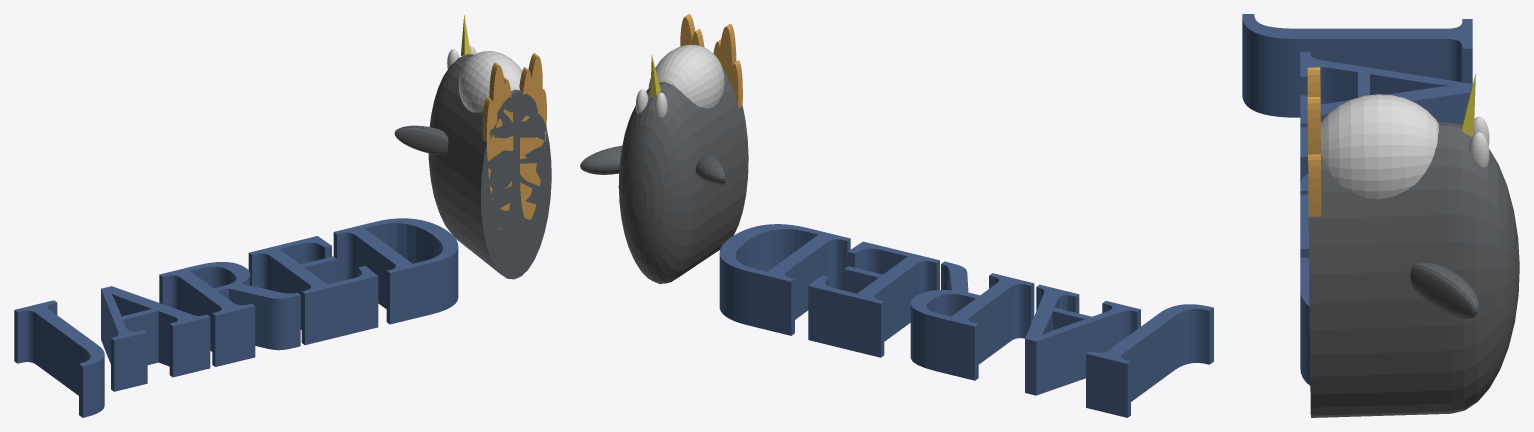
The model's file is asset.glb.
3 renders of one model, left to right at view 1: azimuth 30°, elevation 25°; view 2: azimuth 150°, elevation 25°; view 3: azimuth 270°, elevation 25°, orthographic. The views are drawn at different scales.
Parts seen in each view (by area): view 1: Mesh_Mesh_head_geo.001_lambert2SG.001; view 2: Mesh_Mesh_head_geo.001_lambert2SG.001; view 3: Mesh_Mesh_head_geo.001_lambert2SG.001.
Boxes of the visible parts, <box> form: Mesh_Mesh_head_geo.001_lambert2SG.001: <box>14,15,551,417</box>; Mesh_Mesh_head_geo.001_lambert2SG.001: <box>580,14,1213,417</box>; Mesh_Mesh_head_geo.001_lambert2SG.001: <box>1242,14,1519,417</box>.
Size of the model in its own units: 107 by 46 by 31.94.
